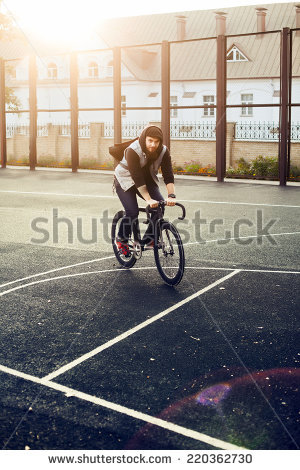bikerider: (106, 119, 202, 300)
